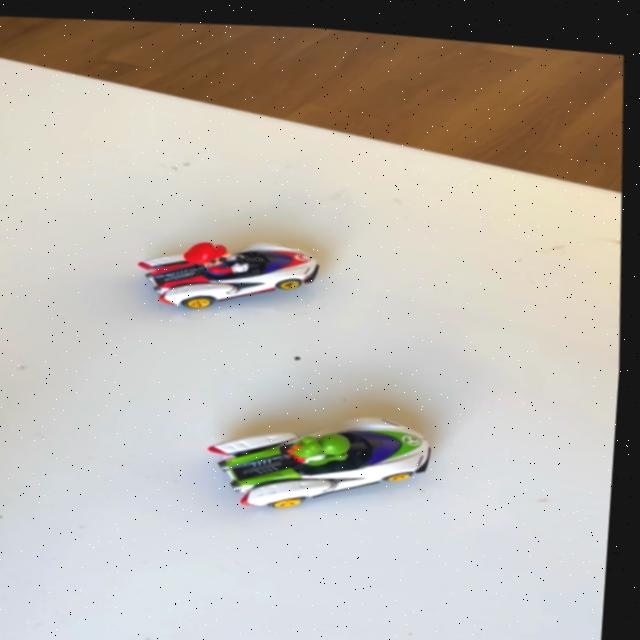mario: (123, 212, 346, 321)
yoshi: (199, 393, 461, 525)
